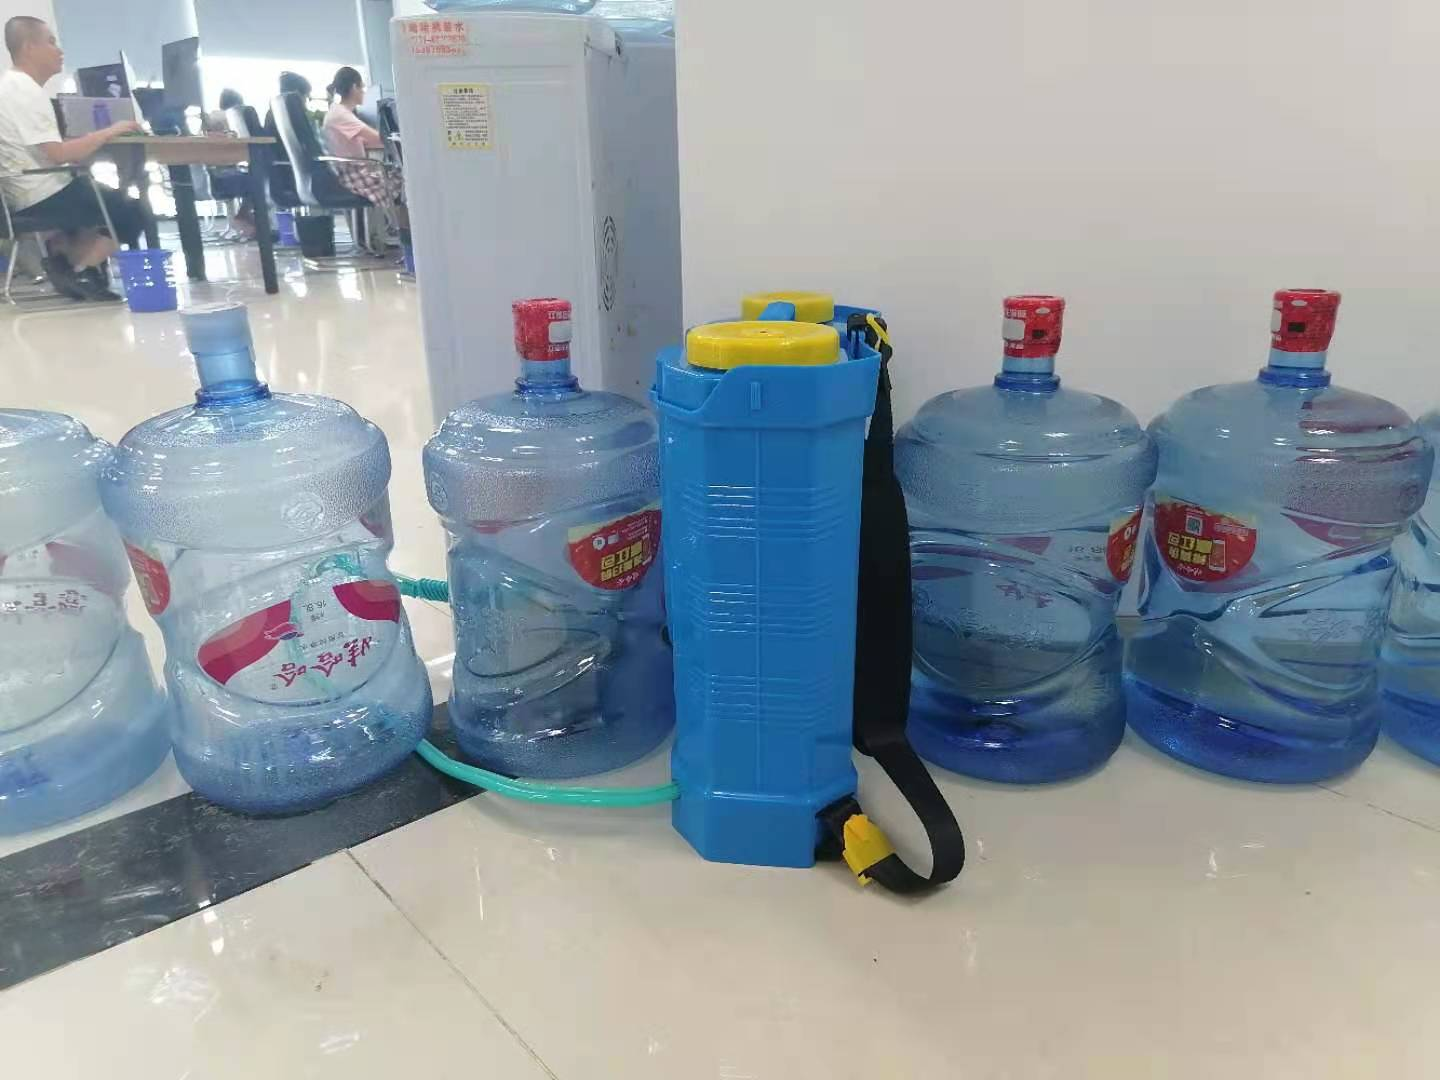berrl: (644, 288, 901, 881)
